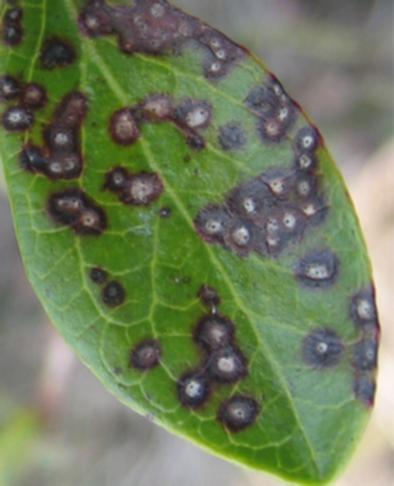Tomato Septoria leaf spot: (1, 5, 384, 483)
